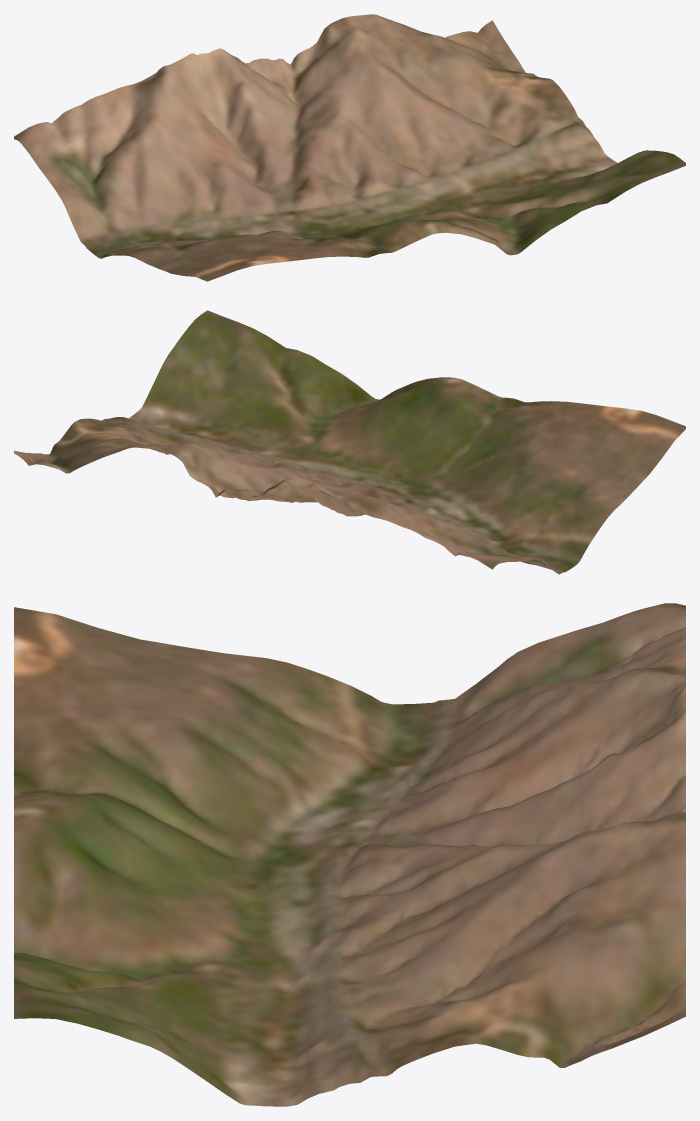
Rendered from terrain_r0_c2_lod1.glb.
3 renders of one model, top to bottom at view 1: azimuth 30°, elevation 25°; view 2: azimuth 150°, elevation 25°; view 3: azimuth 270°, elevation 25°, orthographic. The views are drawn at different scales.
Parts seen in each view (by area): view 1: terrain_r0_c2_lod1; view 2: terrain_r0_c2_lod1; view 3: terrain_r0_c2_lod1.
Part boxes in pixels (x1=…): terrain_r0_c2_lod1: x1=14, y1=14, x2=685, y2=281; terrain_r0_c2_lod1: x1=14, y1=310, x2=685, y2=574; terrain_r0_c2_lod1: x1=14, y1=603, x2=685, y2=1106.
Bounding box in the file's own units: 1125 × 222 × 787.
Materials: 1 (1 with a texture image).
